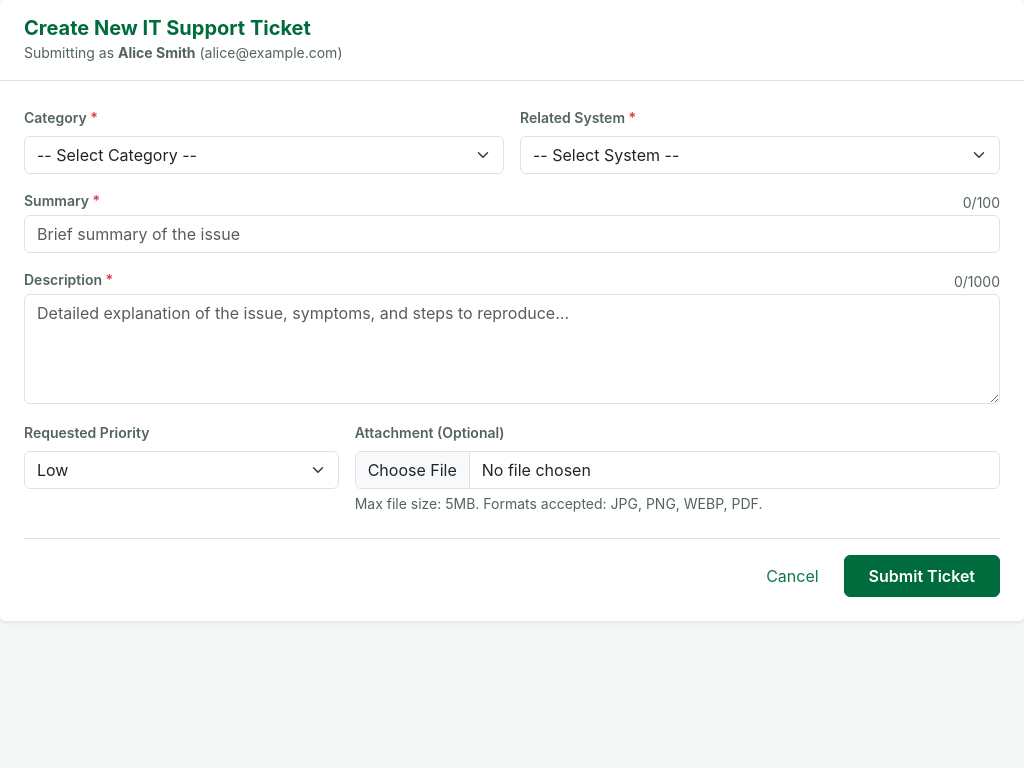
Test: CreateTicket Screen (All 6 States) › State 4 (Success): displays generated ticket number returned from API
Select "Hardware" in the dropdown labelled "Category *" at [264, 155], box [24,136,504,174]
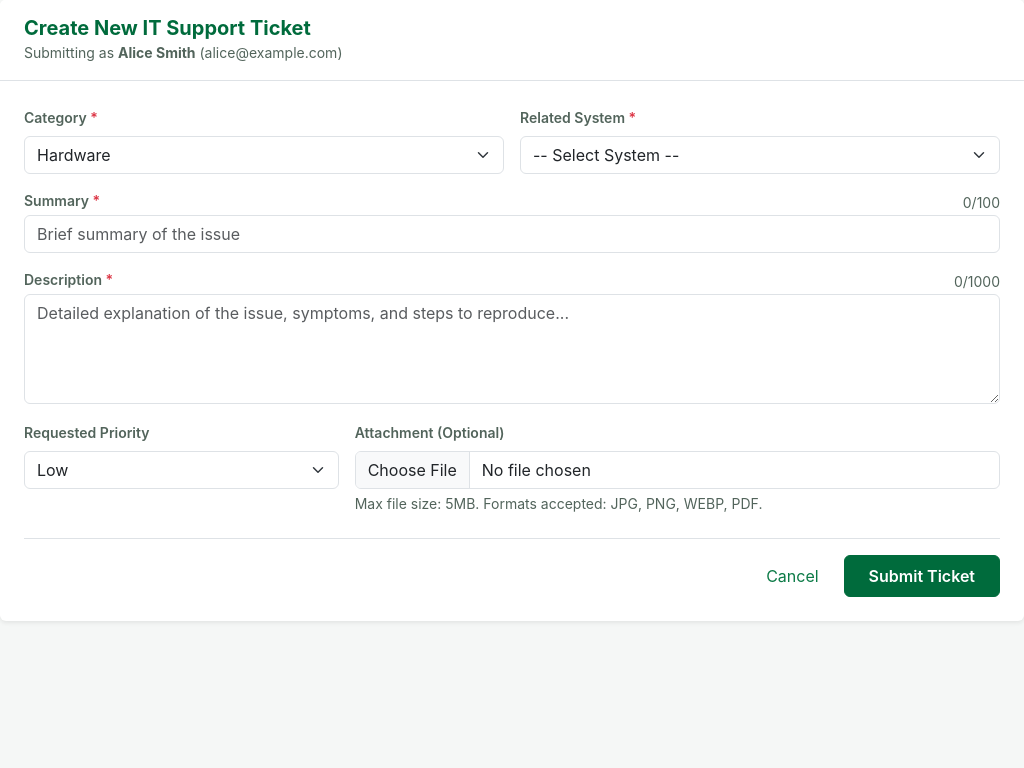
Select "Corporate Laptop" in the dropdown labelled "Related System *" at [760, 155], box [520,136,1000,174]
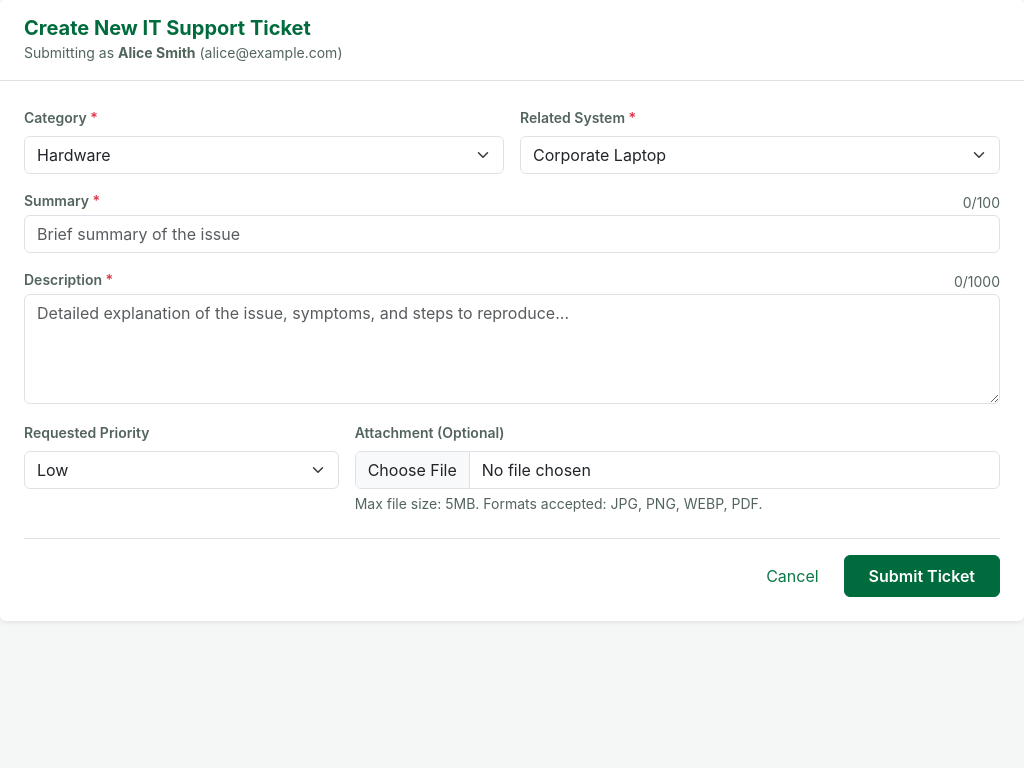
Type "Valid Summary" into the field labelled "Summary *" at [512, 234], box [24,215,1000,253]
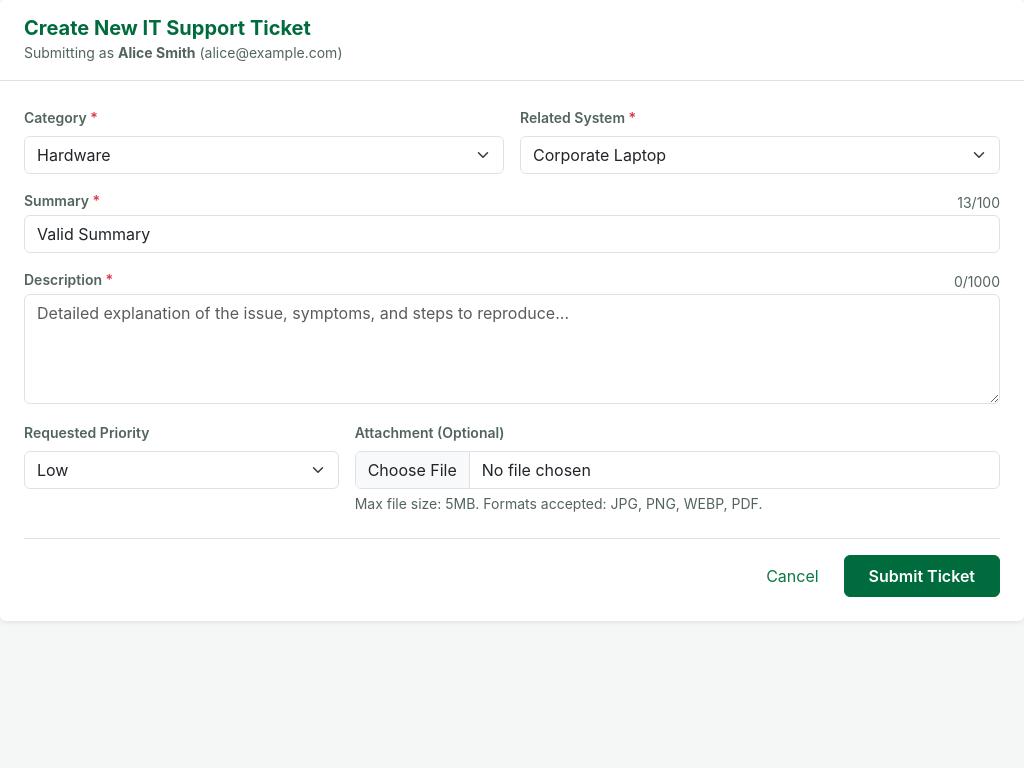
Replace the text in the text box labelled "Description *" with "Valid Description" at [512, 349], box [24,294,1000,404]
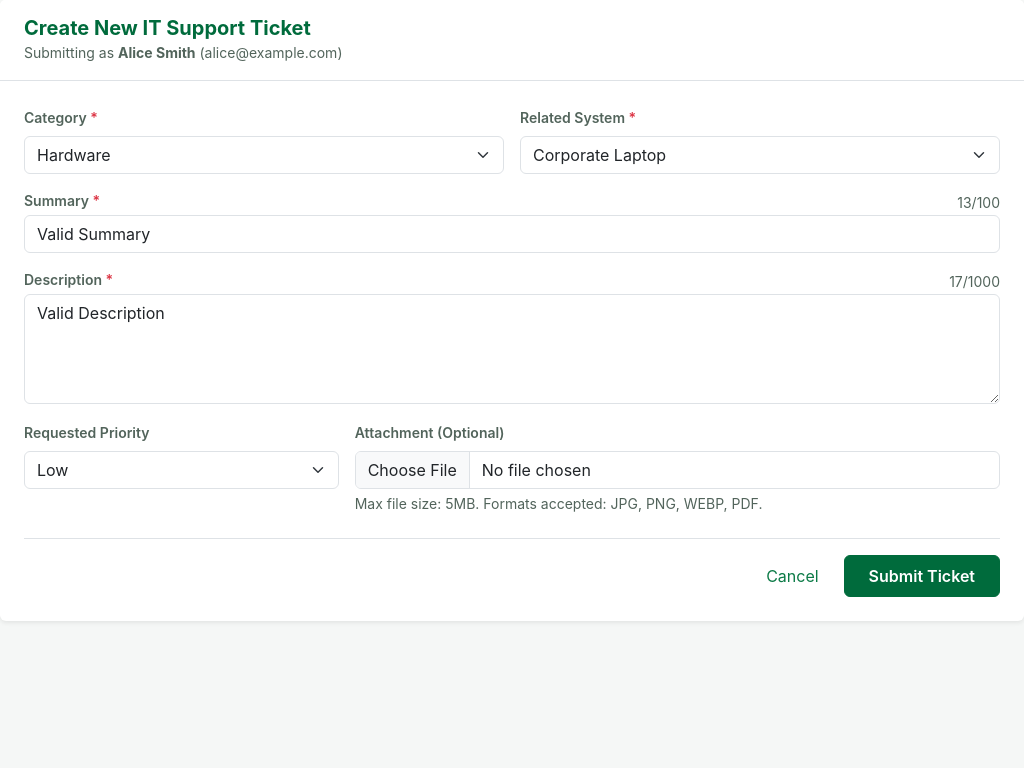
Click the button "Submit Ticket" at [922, 576], box [844,555,1000,597]
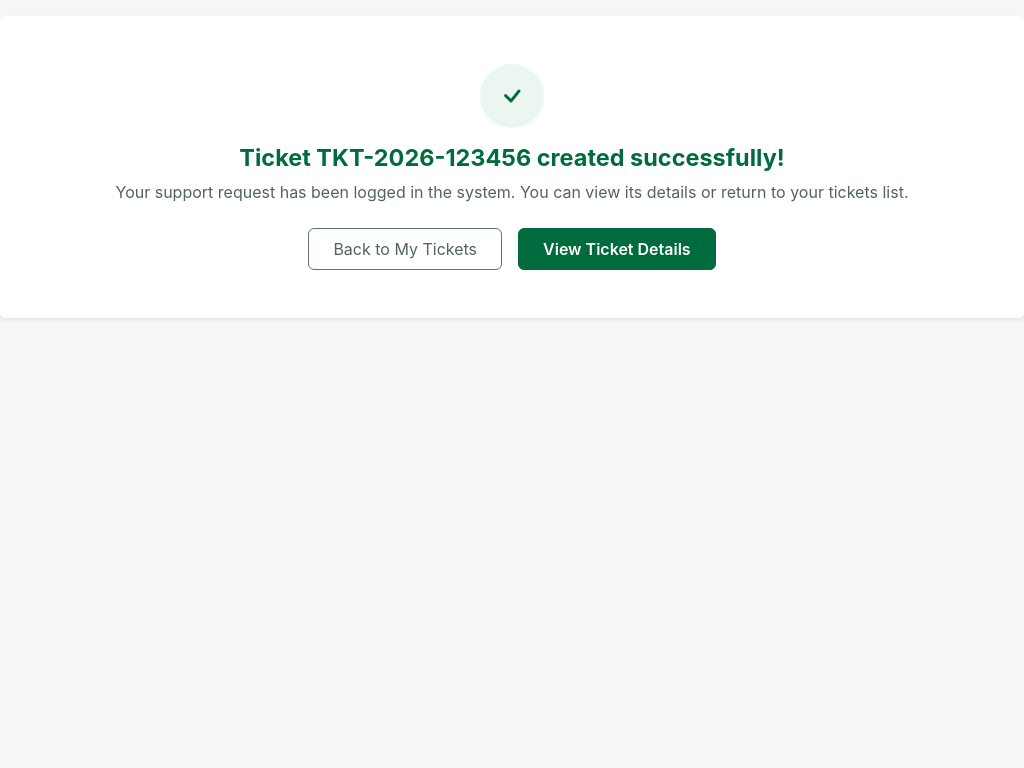
Now the heading "Ticket TKT-2026-123456 created successfully!" is shown, box [239,143,785,172]
